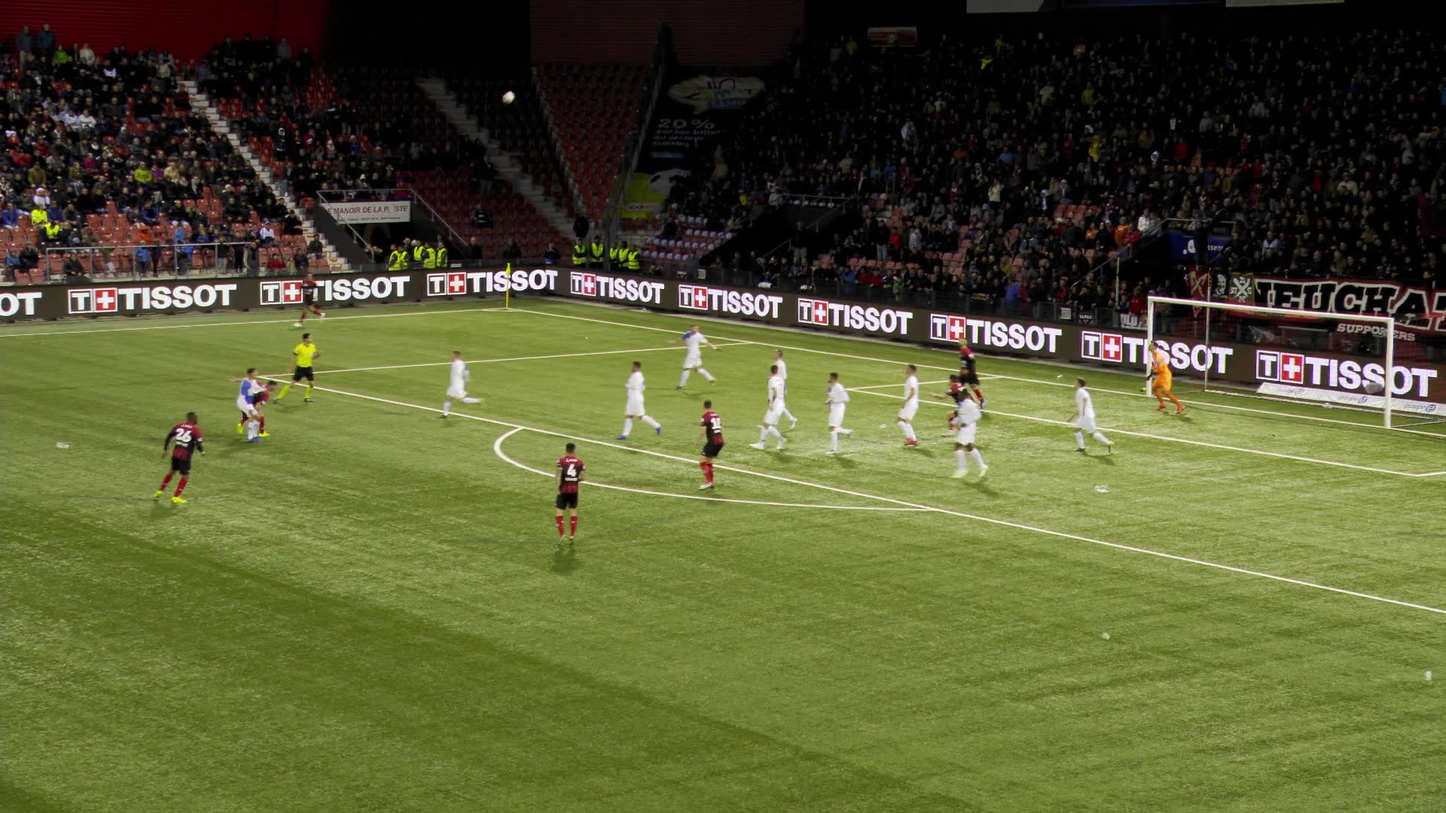ball: (502, 90, 514, 103)
player: (161, 410, 212, 501), (1072, 375, 1118, 452), (444, 348, 495, 416), (558, 443, 590, 547), (624, 361, 666, 440), (679, 323, 726, 391), (230, 375, 282, 435), (1145, 338, 1185, 414), (957, 389, 991, 477), (755, 364, 789, 450), (825, 370, 859, 454), (770, 349, 801, 429), (700, 400, 728, 488), (938, 373, 974, 440), (240, 368, 271, 443), (901, 364, 926, 446), (964, 339, 990, 406), (301, 269, 329, 326)
referee: (280, 331, 328, 403)
